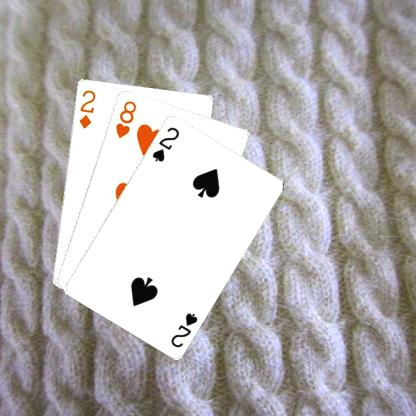2D: (76, 87, 96, 130)
2S: (149, 124, 181, 162), (168, 310, 199, 348)
8H: (113, 98, 137, 139)
